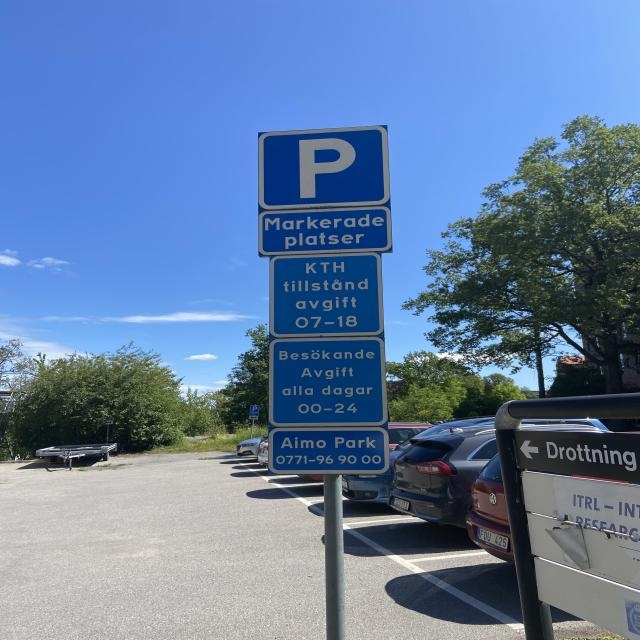P-skylt: (260, 128, 388, 208)
